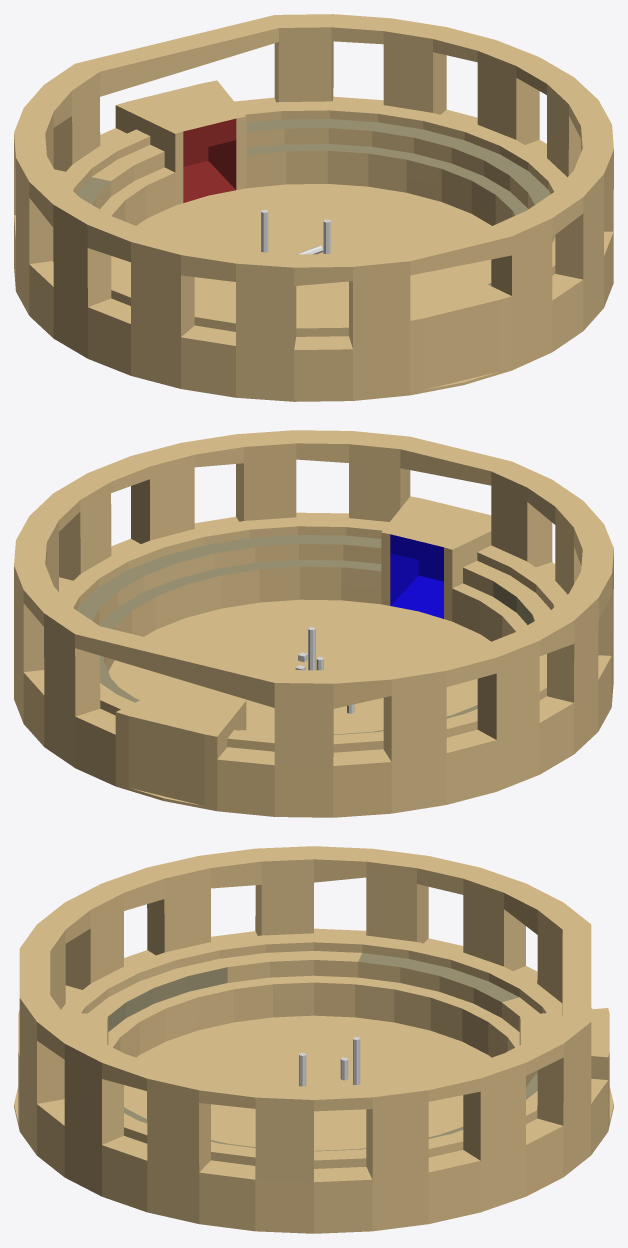
File: Colloseum.fbx
3 renders of one model, top to bottom at view 1: azimuth 30°, elevation 25°; view 2: azimuth 150°, elevation 25°; view 3: azimuth 270°, elevation 25°, orthographic.
Parts seen in each view (by area): view 1: Colloseum; view 2: Colloseum; view 3: Colloseum.
Part boxes in pixels (box(x1,y1,x2,y2)): Colloseum: box(14, 14, 613, 401); Colloseum: box(14, 430, 613, 817); Colloseum: box(14, 846, 613, 1233).
Size of the model in its own units: 16019 by 3964 by 16000.
